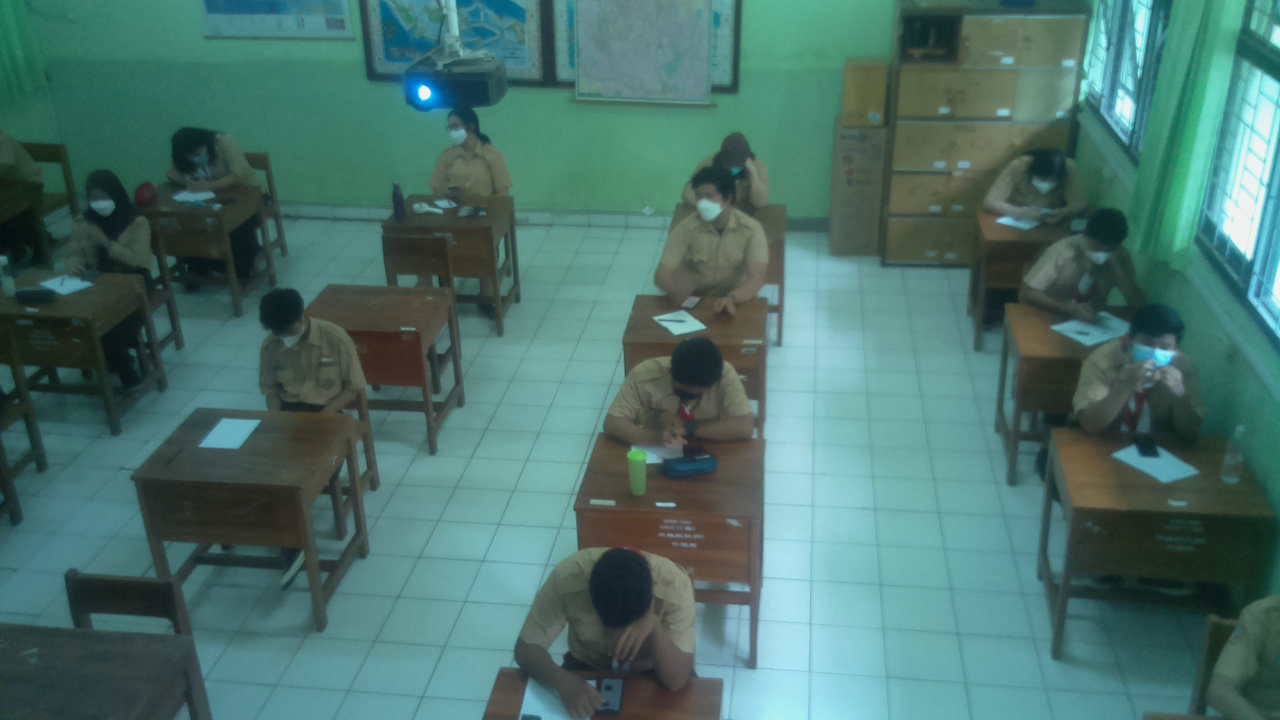Student: (555, 541, 689, 665), (1083, 305, 1200, 437), (255, 285, 355, 405), (675, 173, 767, 296), (631, 337, 744, 437), (1035, 201, 1129, 302), (71, 169, 152, 269), (433, 105, 504, 189), (995, 155, 1083, 217), (171, 129, 254, 188), (701, 135, 761, 200)
